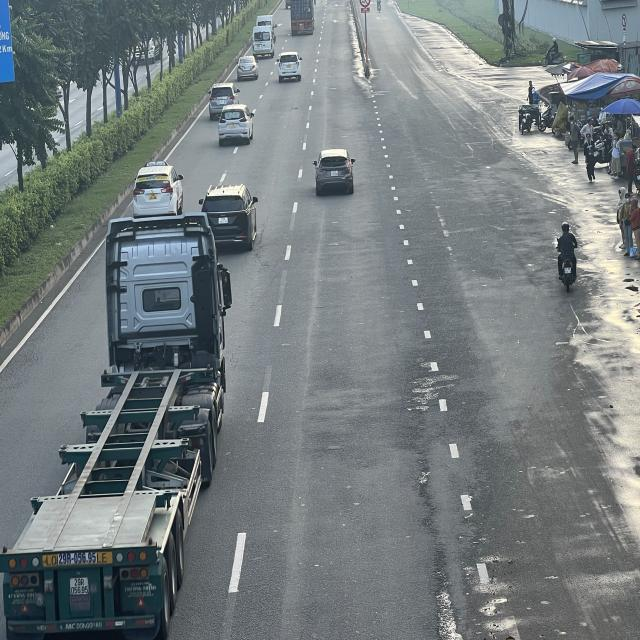car: (197, 187, 257, 250), (132, 164, 183, 219), (314, 148, 358, 193), (219, 104, 256, 145), (208, 82, 237, 119), (278, 51, 303, 83), (236, 55, 260, 82)
container: (0, 212, 232, 640), (290, 0, 316, 34)
van: (253, 27, 274, 58)
